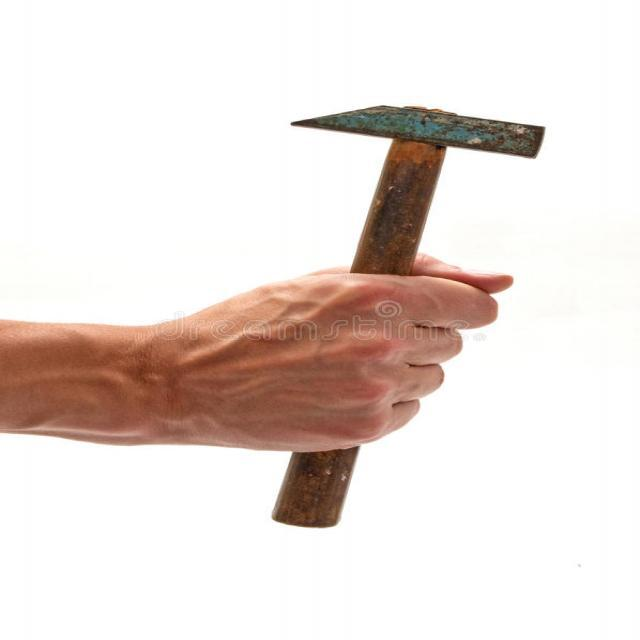hammer: (264, 98, 553, 536)
